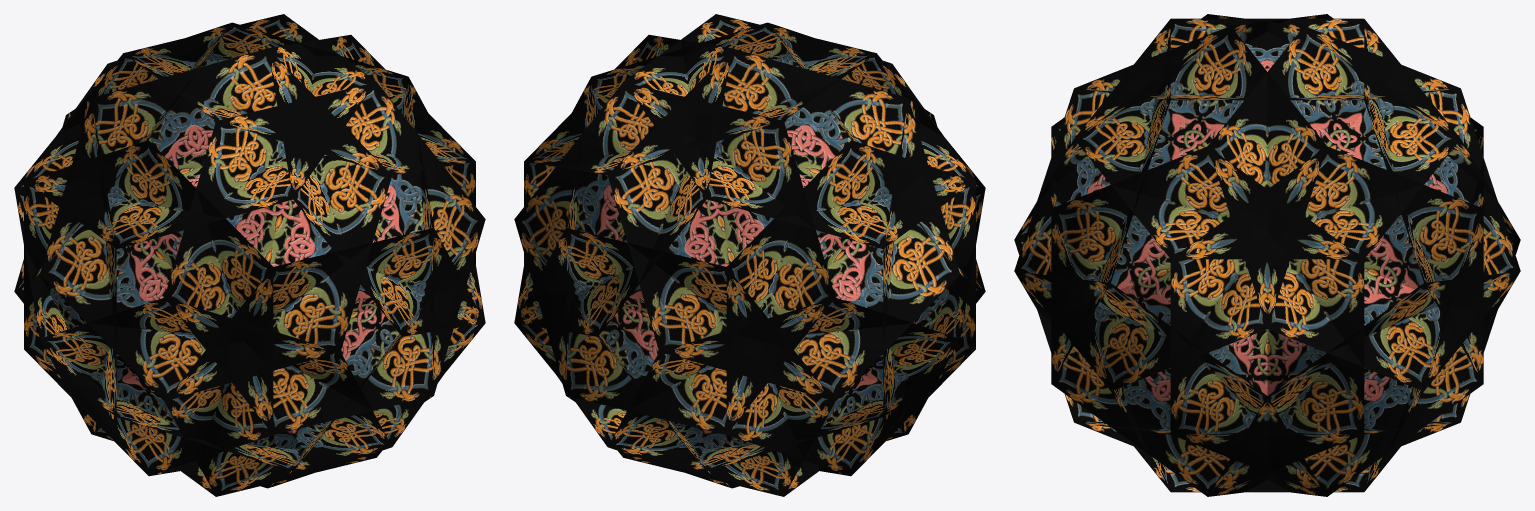
Rendered from Rhombicosahedron.gltf.
The picture shows the model from 3 angles, left to right: view 1: azimuth 30°, elevation 25°; view 2: azimuth 150°, elevation 25°; view 3: azimuth 270°, elevation 25°; orthographic projection. The views are drawn at different scales.
Parts seen in each view (by area): view 1: Rhombicosahedron; view 2: Rhombicosahedron; view 3: Rhombicosahedron.
Part boxes in pixels (x1=…): Rhombicosahedron: x1=14, y1=14, x2=485, y2=496; Rhombicosahedron: x1=514, y1=14, x2=985, y2=496; Rhombicosahedron: x1=1014, y1=14, x2=1520, y2=496.
Size of the model in its own units: 2.62 by 2.62 by 2.62.
Materials: 1 (1 with a texture image).
